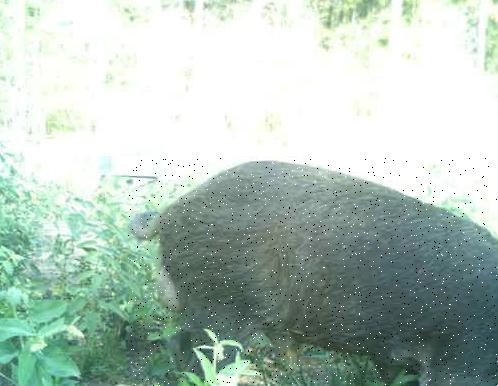Hog: (128, 158, 498, 386)
